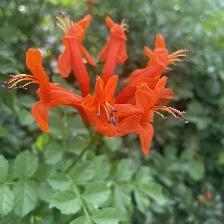honeysuckle: (80, 73, 124, 142)
